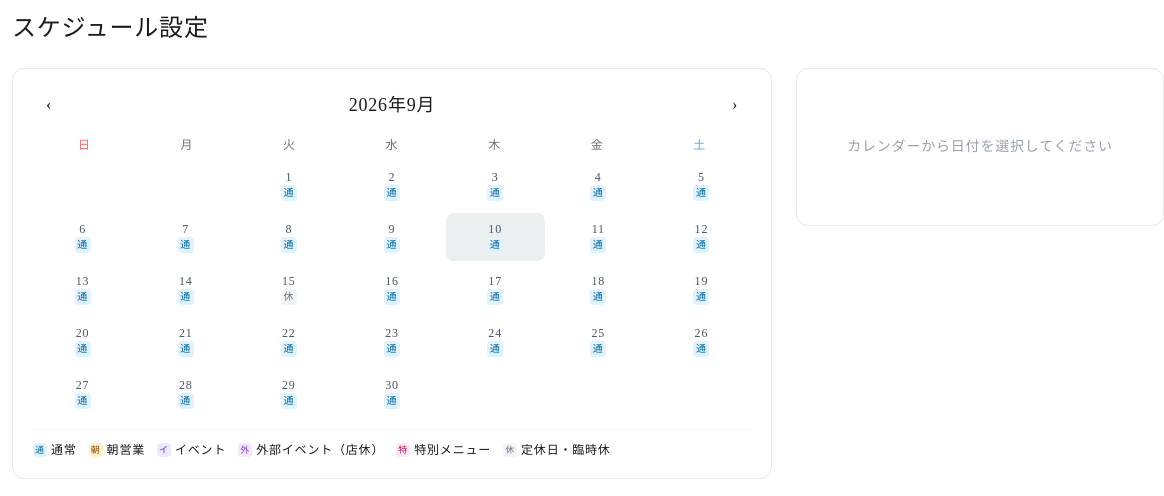
Test: ScheduleCalendar › 個別設定の closed はタイプを「臨時休」と表示する
This screenshot has width=1164, height=496.
Step 1. Click the button "15 休" → {"x": 289, "y": 289}, box [239,265,338,313]
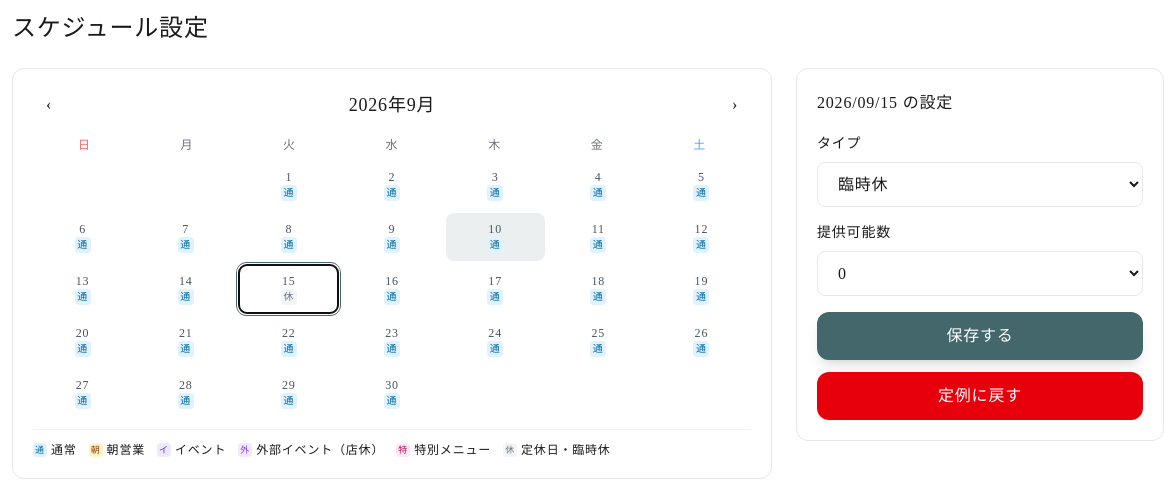
Check: the dropdown showing "臨時休" below "タイプ" is shown, box [817,162,1143,207]
Check: the button "定例に戻す" is shown, box [817,372,1143,420]
